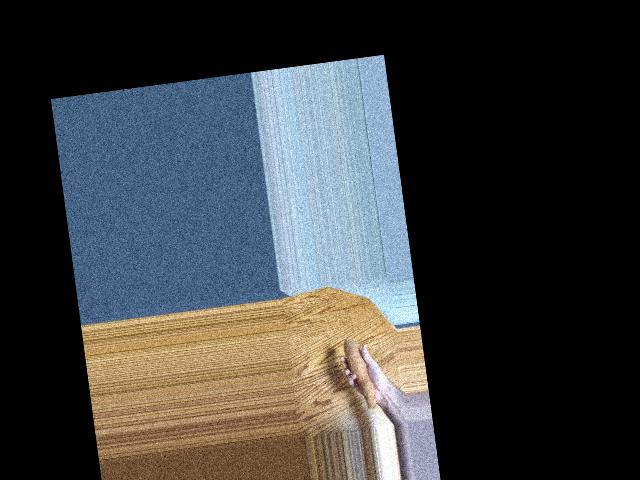sweet_potato: (342, 334, 378, 409)
